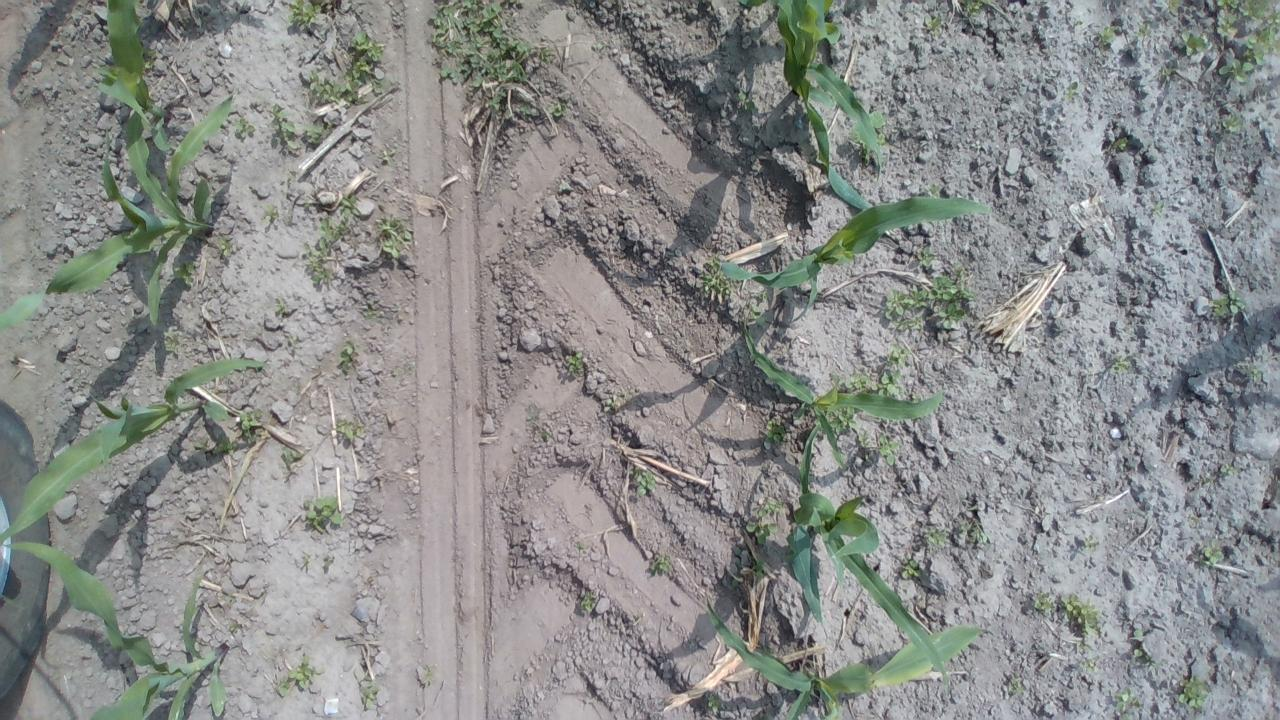Maize: (0, 357, 267, 611), (0, 95, 234, 327), (786, 423, 954, 699), (0, 537, 227, 720), (702, 594, 994, 720), (719, 196, 1014, 316), (742, 308, 943, 470), (92, 0, 214, 231), (774, 0, 883, 210), (734, 0, 792, 11)
Weeds: (426, 0, 531, 88), (345, 30, 395, 105), (850, 108, 886, 164), (1060, 593, 1102, 637), (884, 283, 928, 319), (700, 256, 736, 298), (377, 215, 412, 258), (303, 496, 342, 532), (1245, 26, 1280, 66), (306, 70, 346, 104), (302, 242, 333, 285), (272, 103, 298, 150), (1178, 676, 1210, 710), (1237, 0, 1280, 25), (871, 369, 905, 398), (1208, 290, 1244, 317), (826, 404, 856, 435), (288, 0, 322, 27), (239, 408, 265, 442), (317, 218, 346, 248), (288, 656, 314, 689), (928, 274, 958, 302), (1218, 59, 1254, 81), (1180, 28, 1208, 56), (630, 466, 656, 496), (939, 302, 966, 330), (362, 296, 388, 324), (170, 258, 196, 285), (304, 119, 332, 144), (958, 519, 987, 543), (746, 522, 777, 544), (1200, 540, 1224, 568), (879, 434, 899, 466), (740, 300, 764, 325), (1116, 688, 1142, 711), (886, 343, 911, 366), (212, 433, 238, 455), (336, 419, 364, 439), (765, 417, 786, 443), (844, 371, 868, 393), (924, 525, 948, 547), (341, 194, 362, 218), (360, 682, 378, 709), (1034, 590, 1055, 613), (1216, 14, 1237, 37), (486, 88, 506, 112), (338, 342, 354, 372), (961, 0, 989, 17), (1097, 25, 1119, 46), (233, 117, 254, 138), (902, 558, 922, 579), (758, 500, 782, 517), (163, 332, 181, 354), (566, 351, 584, 373), (139, 46, 155, 70), (893, 316, 922, 329), (1112, 356, 1134, 373), (650, 556, 670, 574), (924, 14, 942, 34), (1222, 114, 1243, 131), (580, 591, 596, 613), (737, 92, 754, 112), (282, 444, 303, 460), (706, 692, 722, 713), (918, 246, 934, 266), (218, 235, 232, 257), (276, 678, 291, 698), (751, 558, 765, 578), (1008, 678, 1024, 695), (1083, 536, 1098, 554), (926, 182, 942, 198), (548, 102, 566, 116), (264, 204, 278, 222), (1066, 81, 1079, 100), (1167, 0, 1183, 15), (539, 46, 553, 63), (604, 395, 618, 412), (957, 287, 975, 300), (1219, 464, 1238, 476), (954, 264, 966, 282), (1160, 67, 1176, 80), (1217, 0, 1240, 9), (1144, 654, 1158, 668), (1248, 366, 1260, 382), (1077, 640, 1093, 652), (1114, 137, 1128, 150), (1080, 660, 1095, 672), (422, 668, 432, 686), (383, 149, 394, 165), (195, 437, 208, 450), (526, 409, 538, 423), (1153, 202, 1164, 217), (858, 430, 868, 446), (1137, 23, 1149, 36), (275, 300, 286, 314), (520, 104, 532, 115), (1132, 628, 1144, 638), (758, 290, 768, 301), (230, 621, 240, 632), (1132, 647, 1144, 656), (592, 43, 604, 50), (302, 554, 310, 564), (731, 578, 740, 586), (391, 369, 399, 378), (910, 395, 920, 402), (542, 432, 550, 440), (575, 542, 584, 549), (734, 548, 741, 555), (324, 561, 331, 567)
